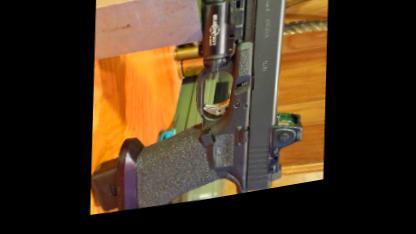pistol: (93, 0, 314, 220)
